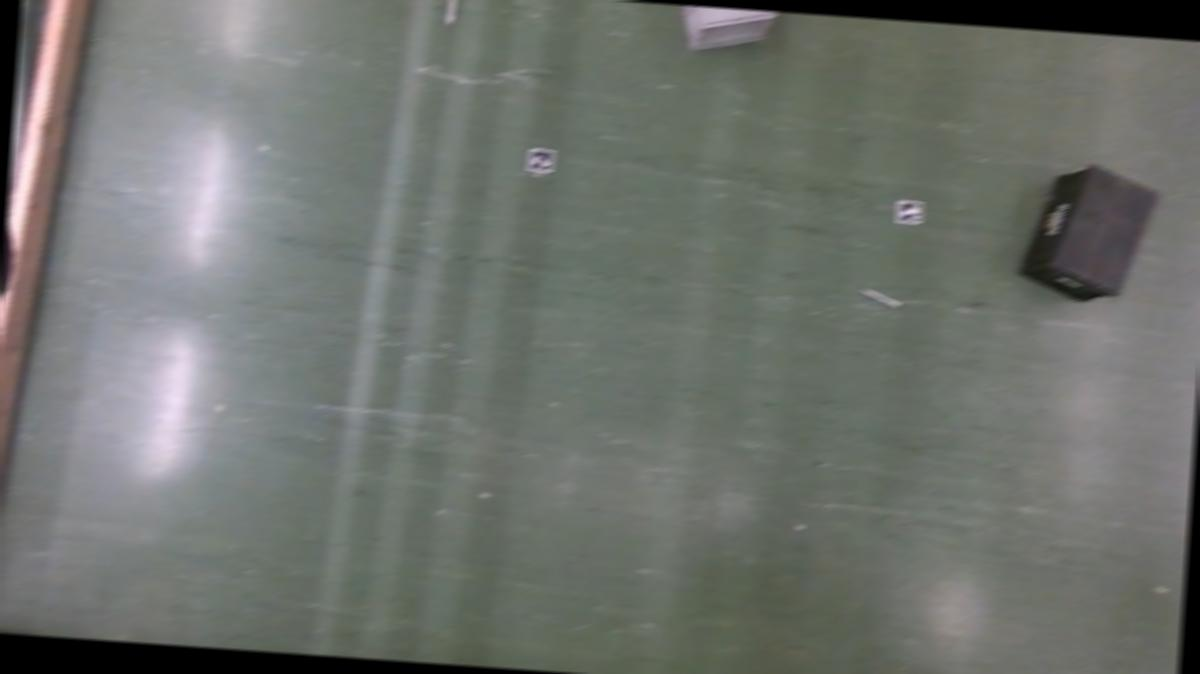probes: (861, 290, 899, 308), (443, 0, 459, 24)
rako: (1016, 162, 1160, 308), (669, 5, 776, 57)
